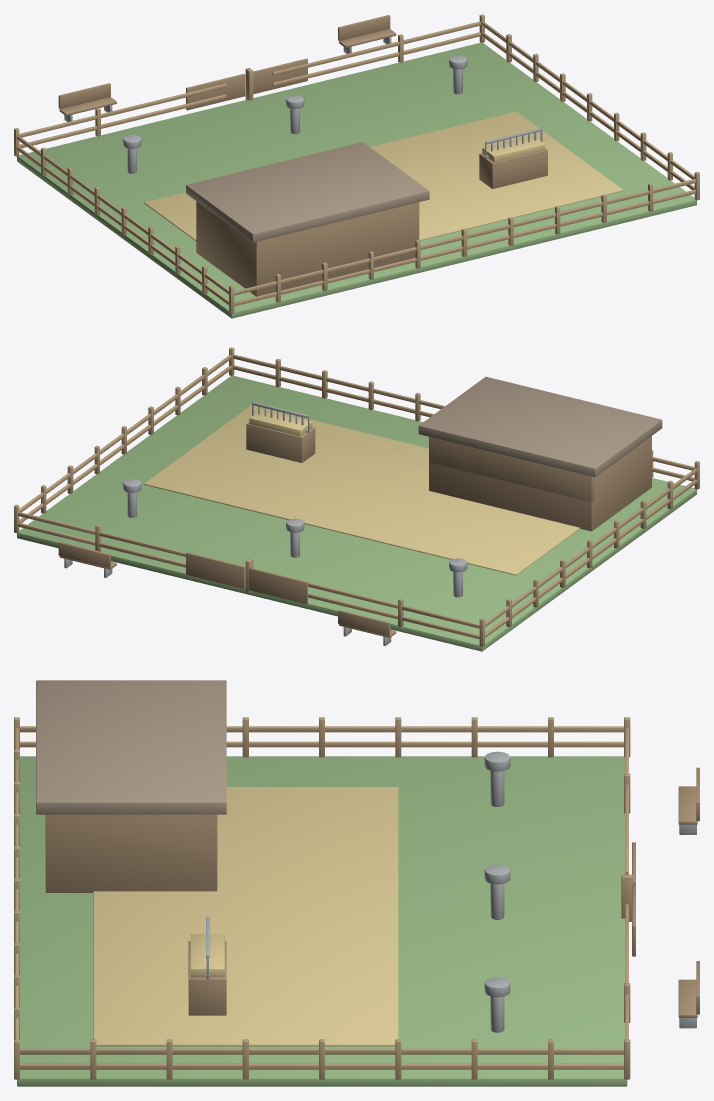
Rendered from th24_streichelzoo.glb.
3 views of the same model, one above another, from view 1: azimuth 30°, elevation 25°; view 2: azimuth 150°, elevation 25°; view 3: azimuth 270°, elevation 25° (orthographic). The views are drawn at different scales.
Parts seen in each view (by area): view 1: Cube, Cube.001, Cube.053, Cube.052, Cube.013, Cube.014, Cube.055, Cube.024, Cube.025, Cube.036, Cube.050, Cube.035 (+10 smaller); view 2: Cube, Cube.001, Cube.053, Cube.052, Cube.054, Cube.055, Cube.051, Cube.050, Cube.014, Cube.024, Cube.025, Cube.036 (+5 smaller); view 3: Cube, Cube.001, Cube.053, Cube.052, Cube.035, Cube.036, Cube.025, Cube.024, Cube.055, Cube.068, Cube.014, Cube.069 (+1 smaller).
Boxes of the visible parts, box(x1,y1,x2,y2) form: Cube: box(17, 42, 696, 318); Cube.001: box(144, 111, 623, 241); Cube.053: box(186, 142, 429, 242); Cube.052: box(196, 201, 419, 296); Cube.013: box(234, 189, 695, 306); Cube.014: box(234, 179, 695, 295); Cube.055: box(479, 148, 547, 188); Cube.024: box(16, 146, 228, 304); Cube.025: box(16, 135, 228, 294); Cube.036: box(482, 22, 694, 179); Cube.050: box(186, 74, 245, 110); Cube.035: box(482, 33, 694, 189); Cube: box(17, 375, 696, 651); Cube.001: box(144, 405, 579, 575); Cube.053: box(418, 376, 662, 477); Cube.052: box(429, 436, 651, 531); Cube.054: box(429, 437, 594, 501); Cube.055: box(246, 422, 315, 462); Cube.051: box(186, 552, 245, 588); Cube.050: box(249, 567, 307, 604); Cube.014: box(233, 354, 694, 470); Cube.024: box(485, 479, 697, 637); Cube.025: box(485, 468, 697, 627); Cube.036: box(19, 355, 231, 512); Cube: box(17, 756, 627, 1086); Cube.001: box(93, 787, 398, 1046); Cube.053: box(36, 680, 226, 814); Cube.052: box(45, 814, 217, 892); Cube.035: box(20, 1063, 623, 1069); Cube.036: box(20, 1048, 623, 1054); Cube.025: box(20, 726, 623, 732); Cube.024: box(20, 741, 623, 747); Cube.055: box(188, 941, 226, 1015); Cube.068: box(190, 934, 224, 977); Cube.014: box(15, 728, 18, 1039); Cube.069: box(678, 786, 697, 824).
Bounding box in the file's own units: 20.16 × 3 × 17.99.
